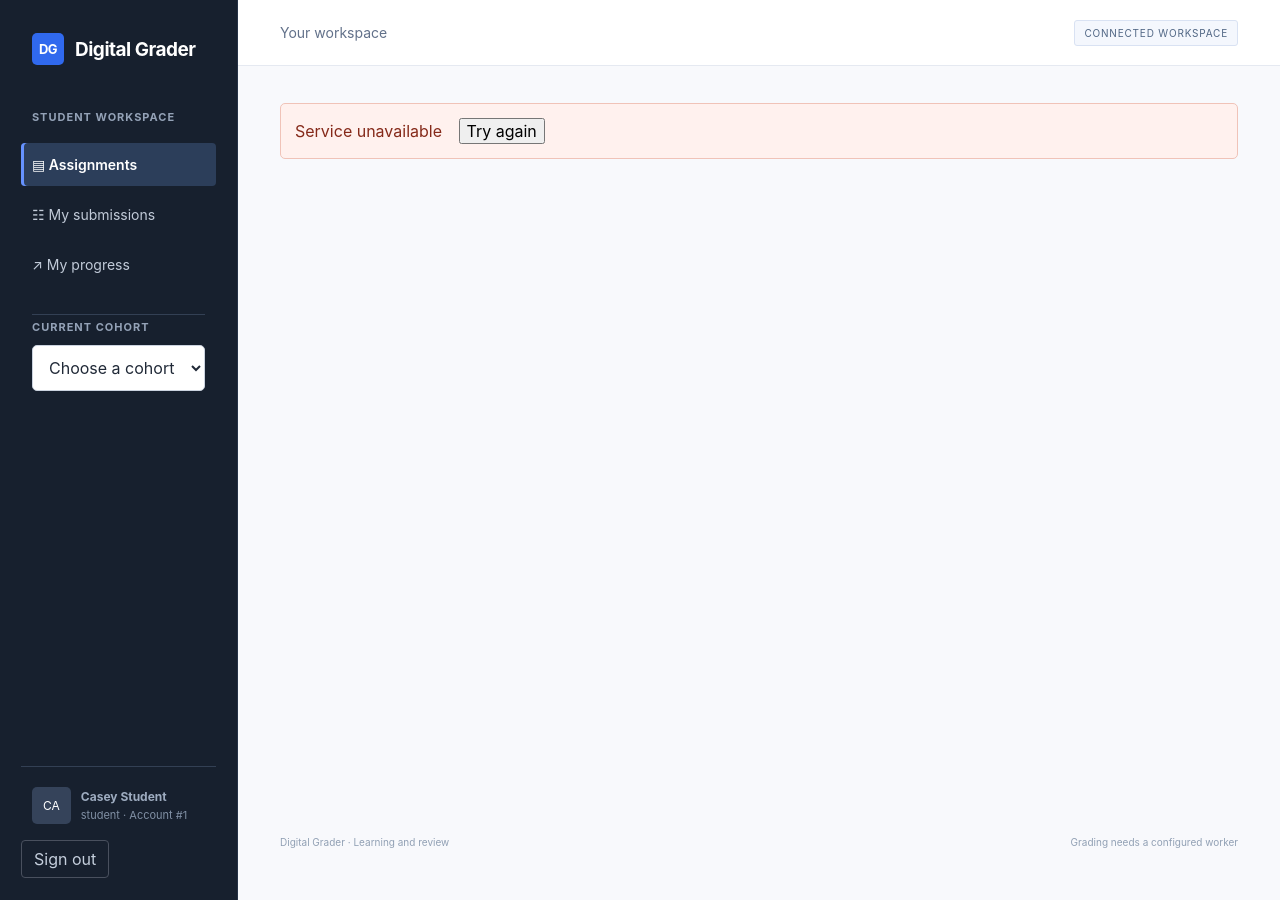
handles unavailable cohort loading with an explicit retry
The width and height of the screenshot is (1280, 900).
Check: the message shows "Service unavailable", box [295, 121, 442, 141]
Click the button "Try again". click: (502, 131)
box: [458, 118, 545, 144]
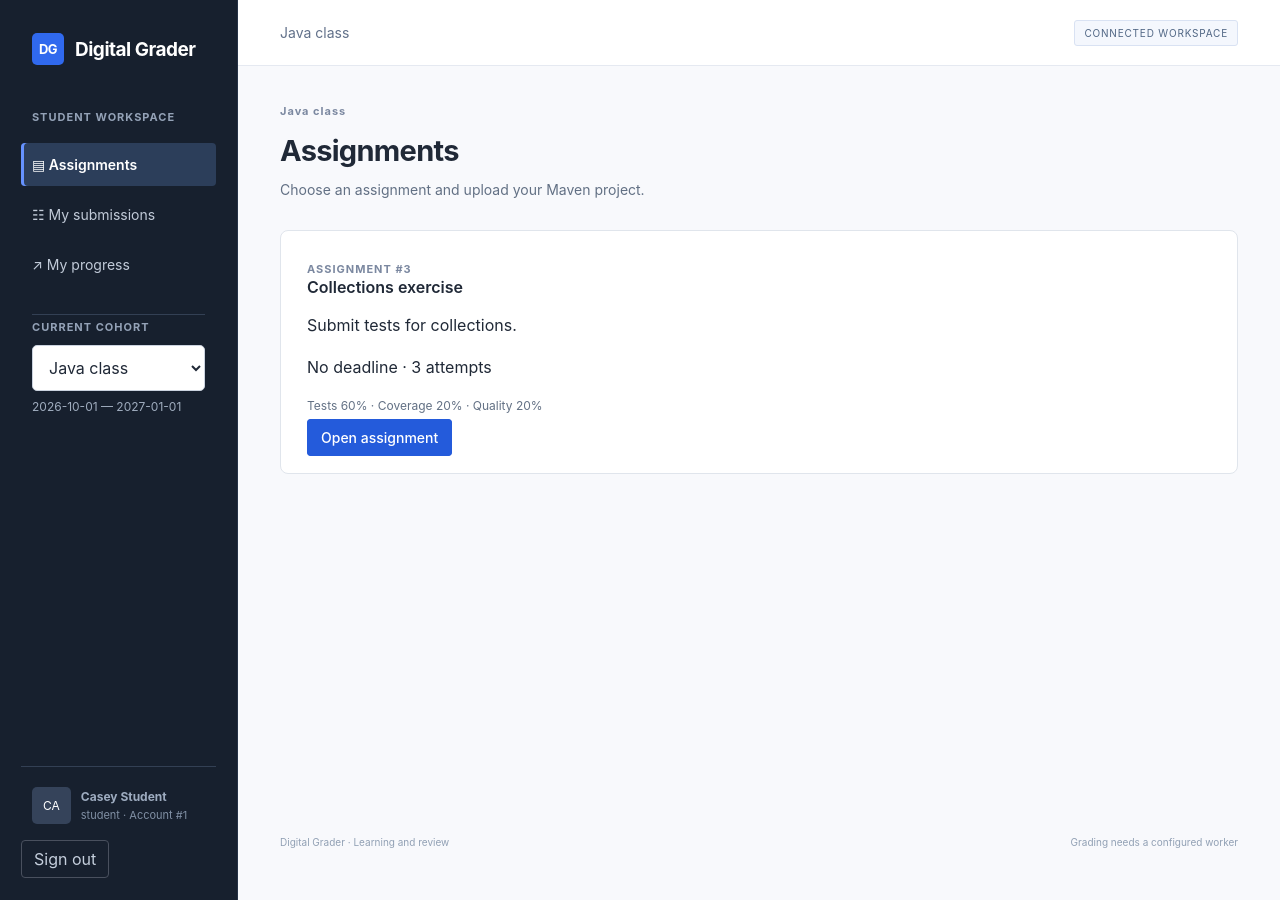
Check: the heading "Collections exercise" is shown, box [307, 277, 463, 297]
